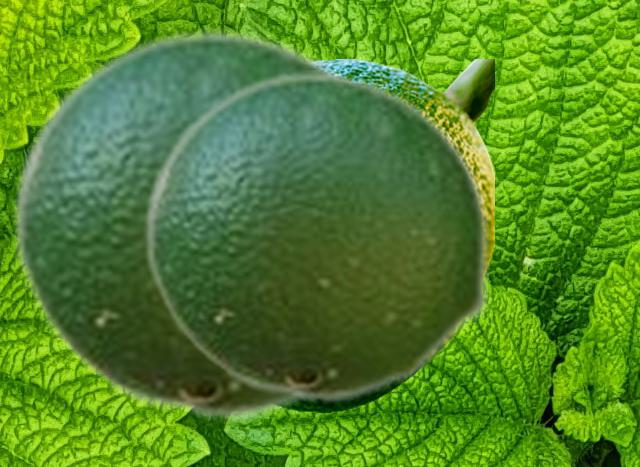dalandan: (11, 28, 357, 422), (143, 70, 491, 404), (285, 59, 493, 411)
